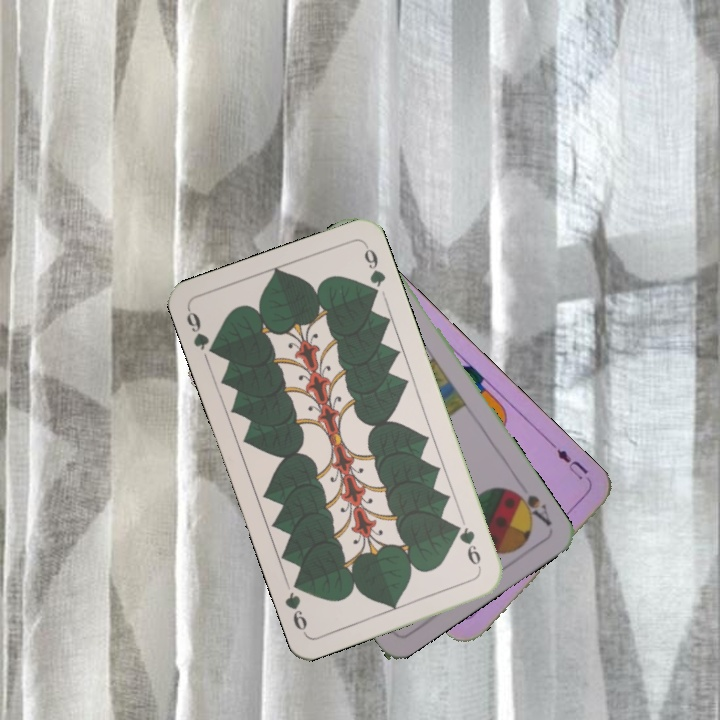EU: (548, 440, 594, 486)
G9: (182, 305, 221, 358), (451, 520, 484, 573)
SA: (506, 485, 555, 529)
